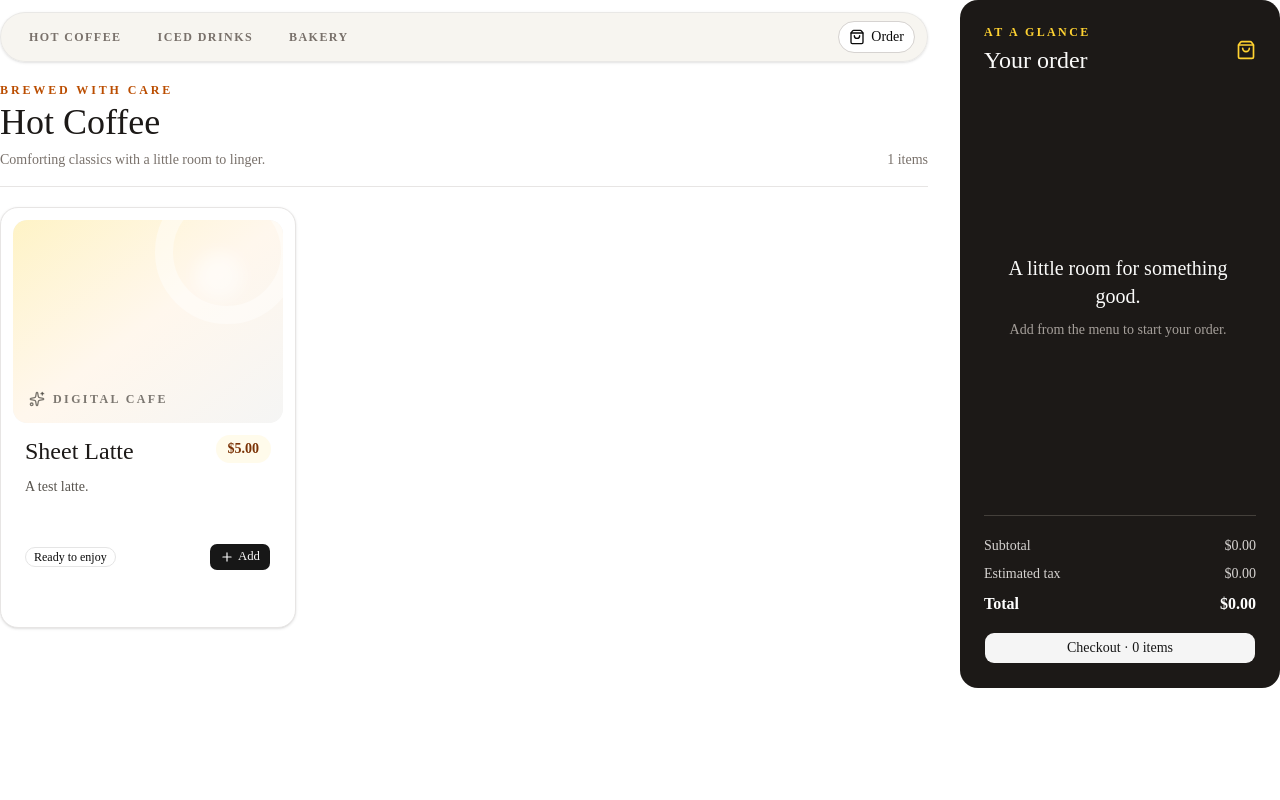
Test: CatalogMenu cart handoff › opens the cart sheet after a direct add
Click the button "Add".
click(240, 556)  # box [209,542,271,570]
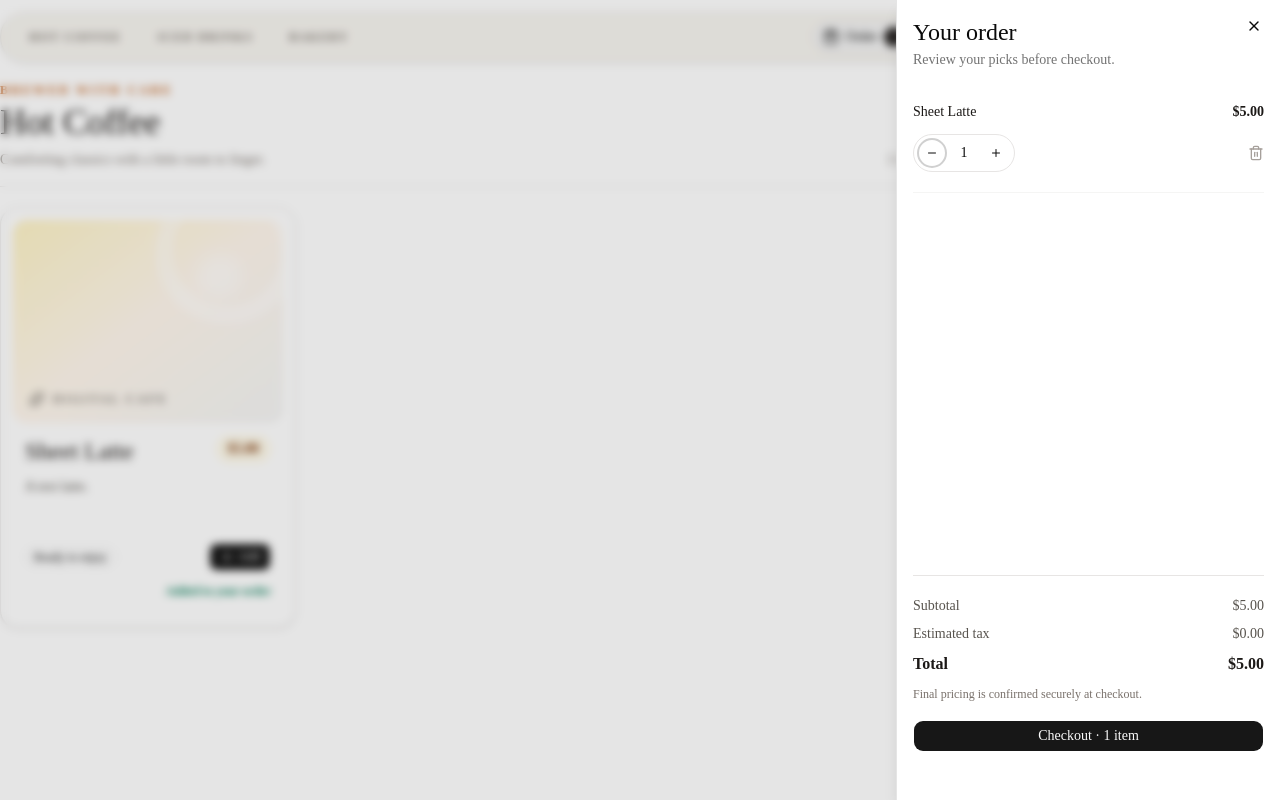
expect the heading "Sheet Latte" is shown: met, box [25,434,134,466]
expect the dialog is shown: met, box [896,0,1279,799]
